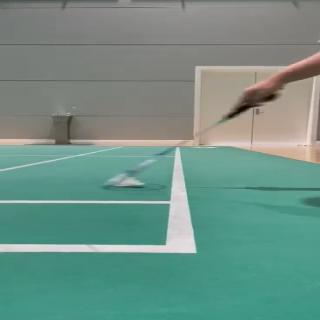Shuttle: (111, 174, 145, 188)
